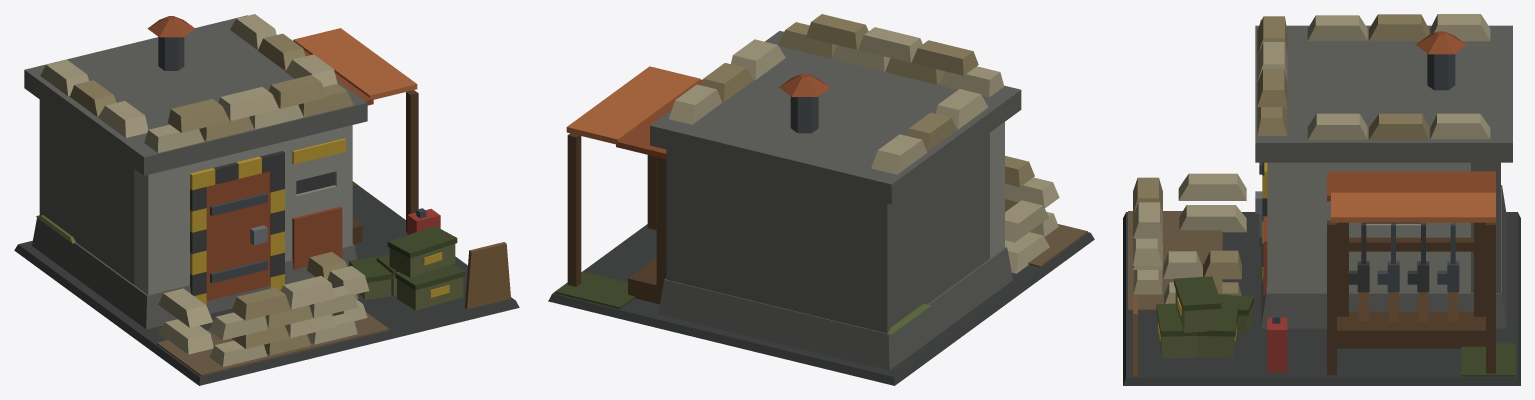
Rendered from armory_l1.glb.
3 views of the same model, side by side, from view 1: azimuth 30°, elevation 25°; view 2: azimuth 150°, elevation 25°; view 3: azimuth 270°, elevation 25° (orthographic). The views are drawn at different scales.
Parts seen in each view (by area): view 1: armory_structure, armory_props, armory_roof; view 2: armory_structure, armory_roof, armory_props; view 3: armory_roof, armory_structure, armory_props.
Boxes of the visible parts, box(x1,y1,x2,y2) form: armory_structure: box(14, 100, 519, 385); armory_props: box(36, 16, 510, 366); armory_roof: box(24, 14, 417, 175); armory_structure: box(548, 122, 1094, 385); armory_roof: box(566, 14, 1021, 204); armory_props: box(567, 73, 1059, 334); armory_roof: box(1255, 14, 1512, 222); armory_structure: box(1123, 162, 1520, 385); armory_props: box(1133, 31, 1495, 376).
Size of the model in its own units: 4 by 2.75 by 4.
